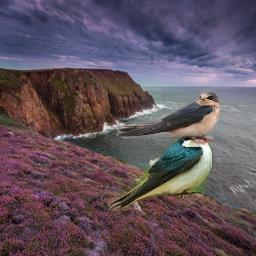Swallow: (107, 127, 214, 211), (116, 88, 221, 145)
